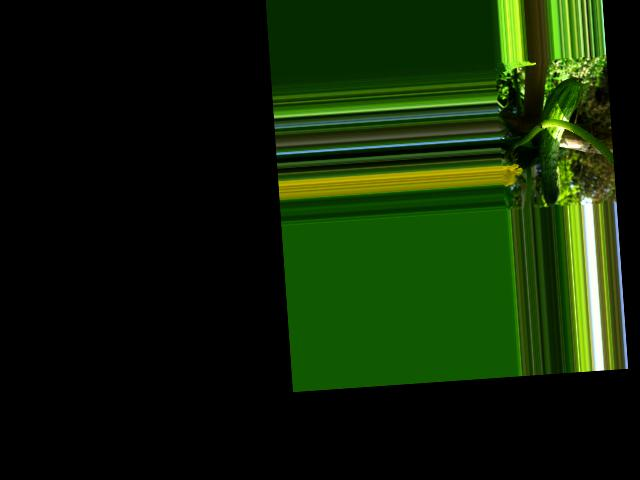cucumber: (534, 76, 589, 207)
